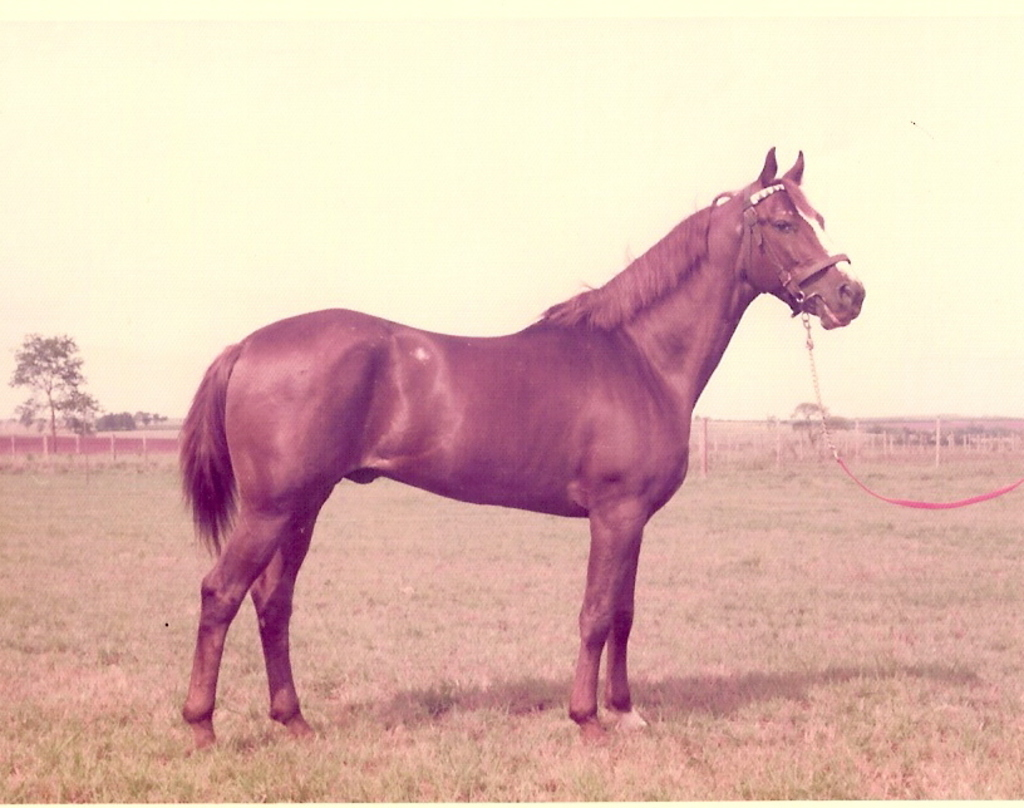horse: (178, 146, 865, 753)
